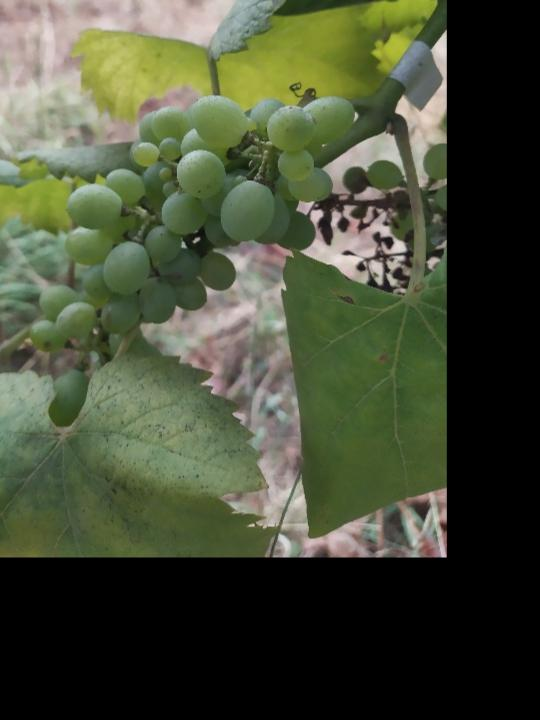grape: (28, 91, 360, 355)
